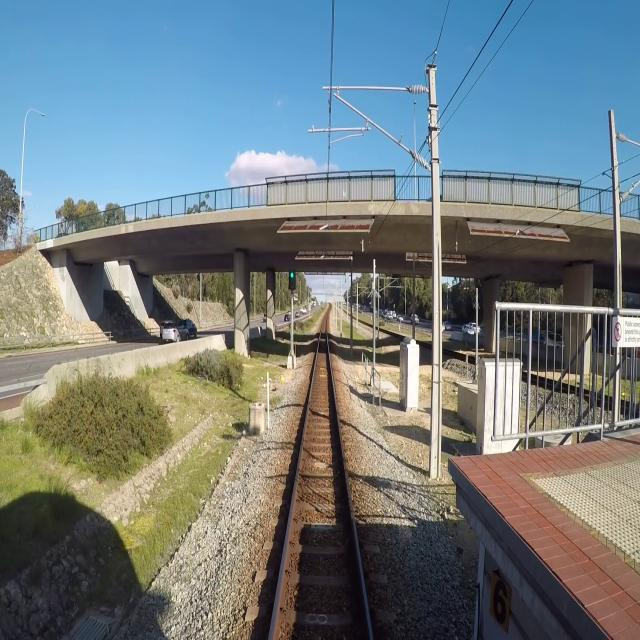rail-track: (272, 318, 368, 639)
